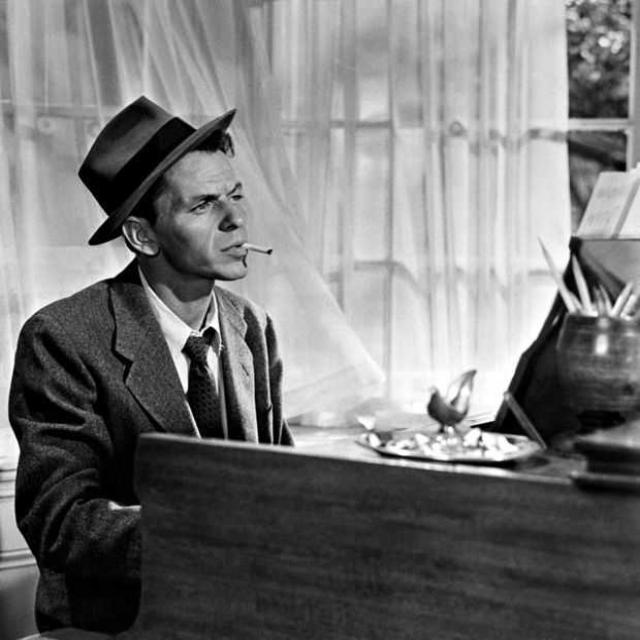Smooking: (241, 238, 284, 264)
